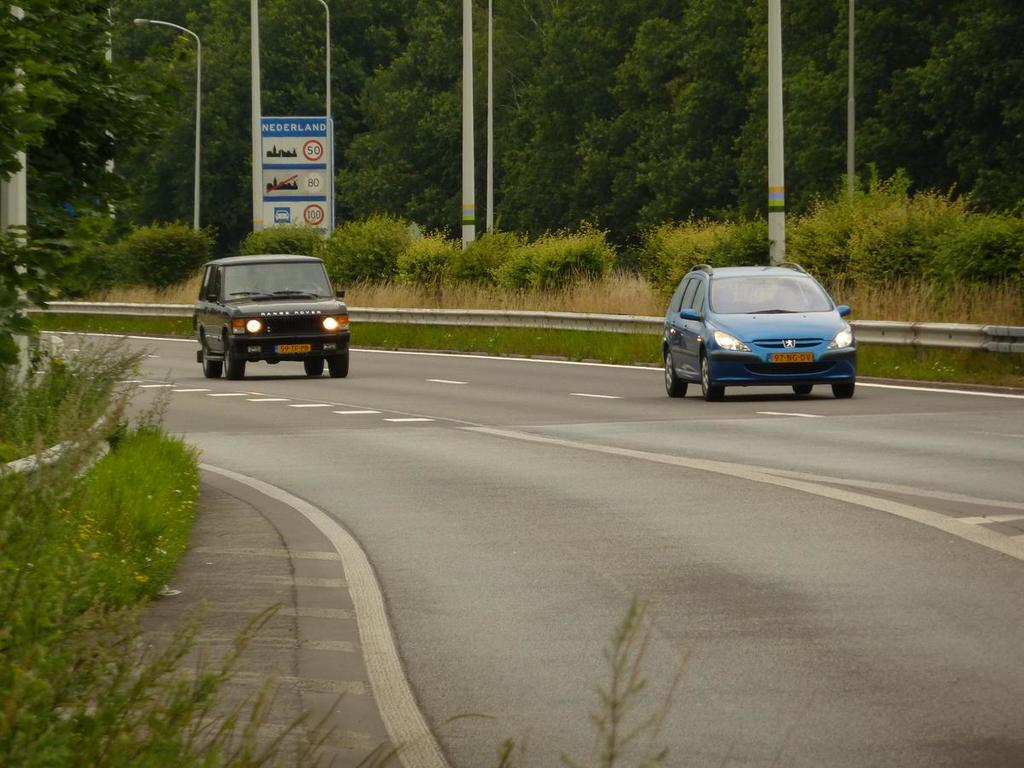Car: (661, 261, 856, 401), (187, 243, 344, 377), (274, 209, 290, 220)
